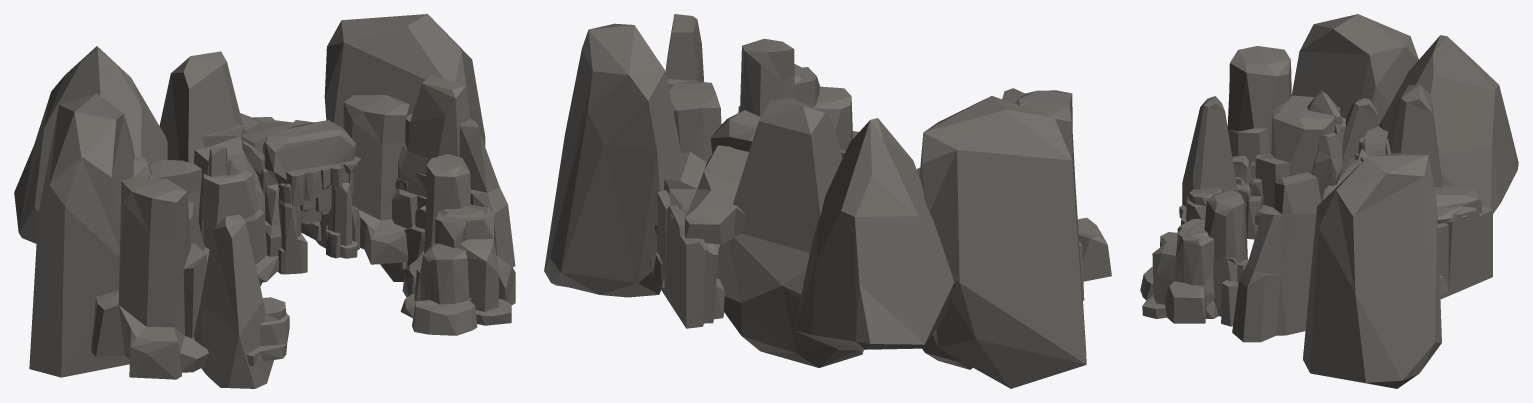
Rendered from wall.fbx.
The picture shows the model from 3 angles, left to right: view 1: azimuth 30°, elevation 25°; view 2: azimuth 150°, elevation 25°; view 3: azimuth 270°, elevation 25°; orthographic projection. The views are drawn at different scales.
Parts seen in each view (by area): view 1: wall.003, wall.028, wall.005, wall.029, wall.019, wall.017, wall.002, wall.004, wall.023, wall.022, wall.035, wall.011 (+13 smaller); view 2: wall.003, wall.005, wall.002, wall.004, wall.010, wall.006, wall.020, wall.028, wall.017, wall.019, wall.022, wall.011 (+2 smaller); view 3: wall.005, wall.002, wall.019, wall.003, wall.028, wall.023, wall.033, wall.006, wall.029, wall.020, wall.004, wall.034 (+9 smaller).
Part boxes in pixels (box(x1,y1,x2,y2)): wall.003: box(29, 93, 134, 377); wall.028: box(91, 176, 208, 379); wall.005: box(324, 14, 485, 281); wall.029: box(194, 214, 273, 388); wall.019: box(398, 75, 515, 267); wall.017: box(316, 95, 409, 264); wall.002: box(14, 46, 167, 243); wall.004: box(159, 51, 262, 286); wall.023: box(435, 204, 515, 325); wall.022: box(400, 243, 477, 335); wall.035: box(202, 171, 278, 282); wall.011: box(263, 120, 356, 183); wall.003: box(919, 96, 1086, 388); wall.005: box(544, 23, 682, 297); wall.002: box(794, 118, 955, 350); wall.004: box(716, 98, 863, 367); wall.010: box(664, 145, 748, 244); wall.006: box(655, 190, 724, 328); wall.020: box(740, 38, 795, 116); wall.028: box(1015, 90, 1111, 300); wall.017: box(649, 81, 721, 267); wall.019: box(665, 14, 704, 85); wall.022: box(812, 86, 858, 151); wall.011: box(710, 110, 760, 153); wall.005: box(1303, 153, 1441, 388); wall.002: box(1379, 35, 1518, 213); wall.019: box(1232, 172, 1321, 342); wall.003: box(1292, 14, 1418, 126); wall.028: box(1227, 46, 1291, 164); wall.023: box(1142, 218, 1214, 323); wall.033: box(1254, 95, 1340, 225); wall.006: box(1437, 206, 1492, 299); wall.029: box(1182, 96, 1238, 207); wall.020: box(1204, 190, 1247, 326); wall.004: box(1386, 84, 1442, 187); wall.034: box(1312, 117, 1345, 201).
Size of the model in its own units: 142 by 76.05 by 113.
